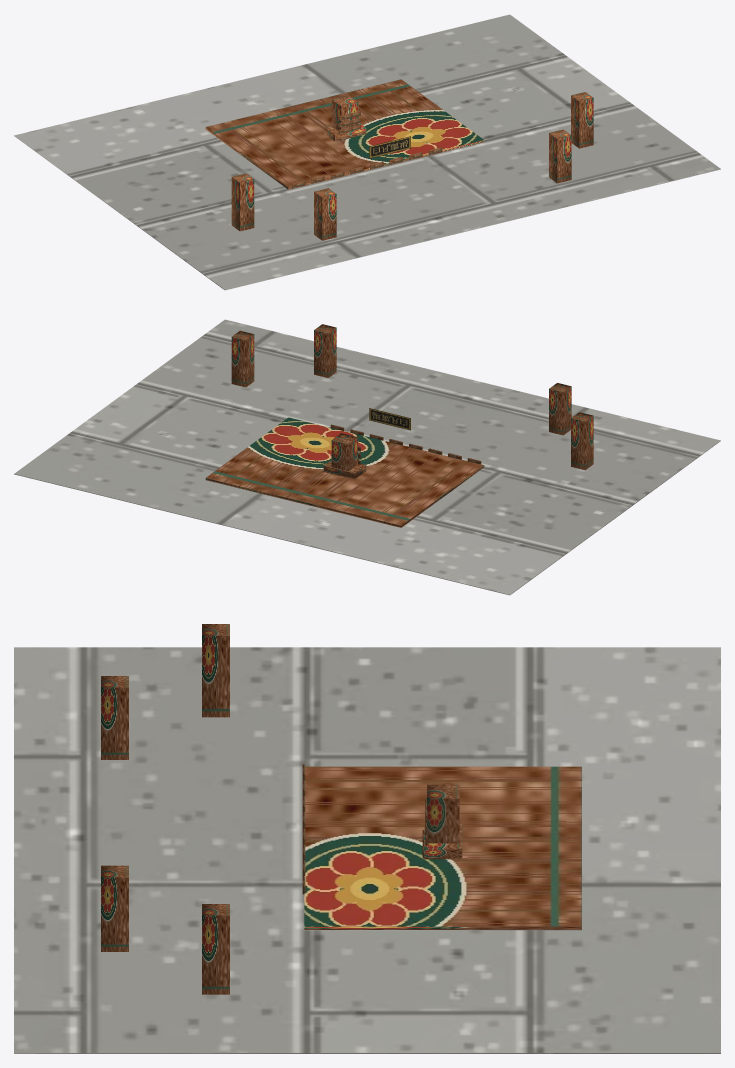
3 views of the same model, one above another, from view 1: azimuth 30°, elevation 25°; view 2: azimuth 150°, elevation 25°; view 3: azimuth 270°, elevation 25° (orthographic). The views are drawn at different scales.
Parts seen in each view (by area): view 1: 11140_02_04626_024_01_L2__base, 11140_02_04626_024_02_L2__body, 11140_02_04626_024_06_L2__green, 11140_02_04626_024_05_L2__openings, 11140_02_04626_024_04_L2__sign; view 2: 11140_02_04626_024_01_L2__base, 11140_02_04626_024_02_L2__body, 11140_02_04626_024_06_L2__green, 11140_02_04626_024_04_L2__sign, 11140_02_04626_024_05_L2__openings; view 3: 11140_02_04626_024_01_L2__base, 11140_02_04626_024_02_L2__body, 11140_02_04626_024_06_L2__green, 11140_02_04626_024_05_L2__openings.
Boxes of the visible parts, <box> form: 11140_02_04626_024_01_L2__base: <box>14,14,720,290</box>; 11140_02_04626_024_02_L2__body: <box>205,79,484,189</box>; 11140_02_04626_024_06_L2__green: <box>231,92,593,240</box>; 11140_02_04626_024_05_L2__openings: <box>291,111,442,188</box>; 11140_02_04626_024_04_L2__sign: <box>369,136,410,158</box>; 11140_02_04626_024_01_L2__base: <box>14,319,720,595</box>; 11140_02_04626_024_02_L2__body: <box>205,417,484,527</box>; 11140_02_04626_024_06_L2__green: <box>231,324,593,470</box>; 11140_02_04626_024_04_L2__sign: <box>369,408,410,430</box>; 11140_02_04626_024_05_L2__openings: <box>330,424,481,464</box>; 11140_02_04626_024_01_L2__base: <box>14,647,720,1053</box>; 11140_02_04626_024_02_L2__body: <box>304,766,581,930</box>; 11140_02_04626_024_06_L2__green: <box>101,624,229,994</box>; 11140_02_04626_024_05_L2__openings: <box>302,764,427,894</box>.
Size of the model in its own units: 76 by 7.2 by 56.
4 materials, 4 textured.
